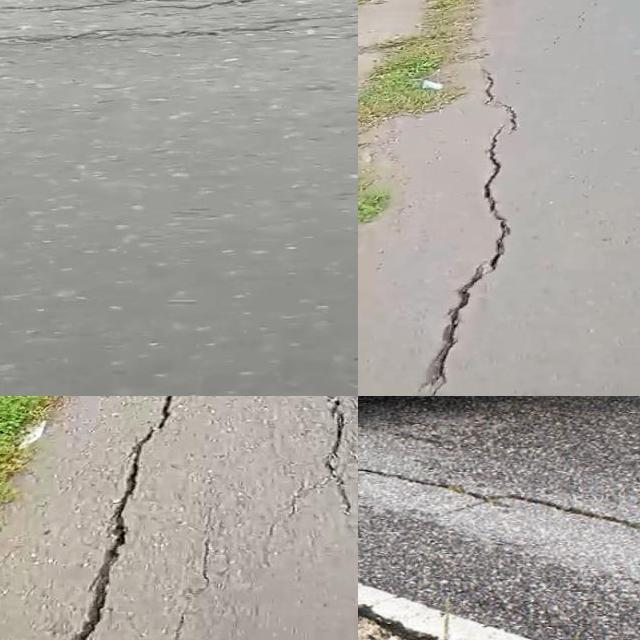Melintang: (0, 10, 358, 54)
Memanjang: (408, 51, 532, 396), (52, 396, 186, 640)
